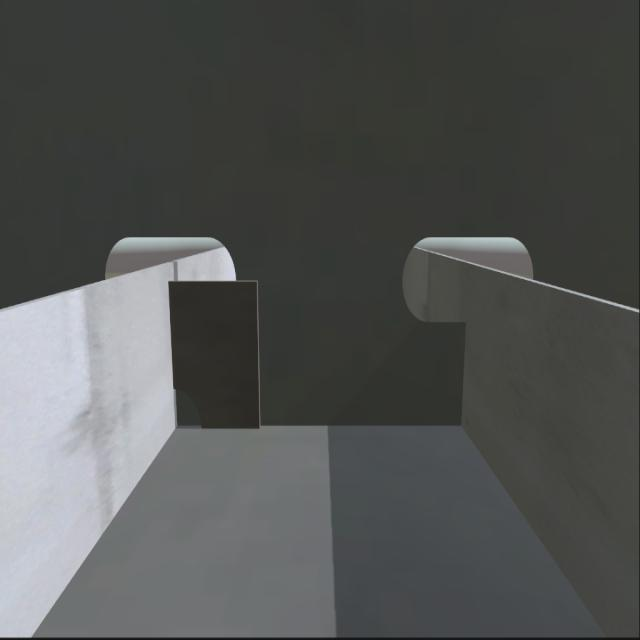fillet_yong_jeop_jang: (170, 416, 466, 436)
longi_yong_jeop_jang: (449, 324, 469, 430), (166, 274, 178, 394)
plate_CP01: (169, 279, 261, 427)
